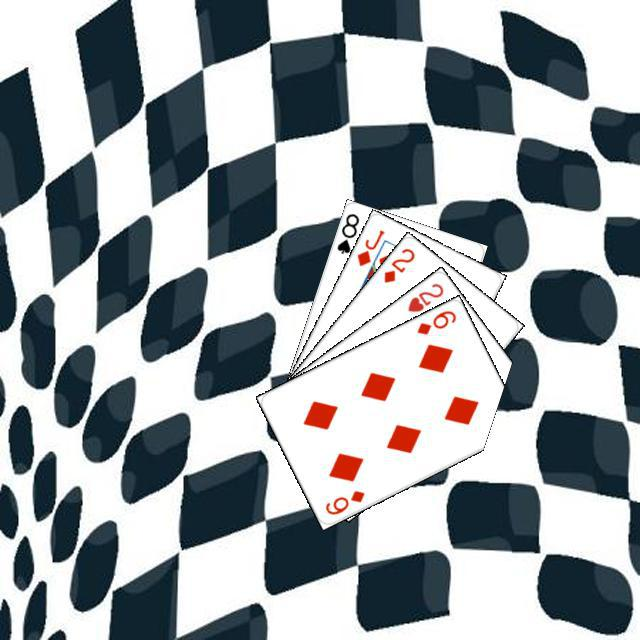2d: (379, 243, 417, 285)
2h: (402, 278, 445, 314)
6d: (412, 305, 458, 337), (320, 485, 366, 516)
8s: (332, 208, 361, 256)
Jd: (352, 225, 387, 268)
